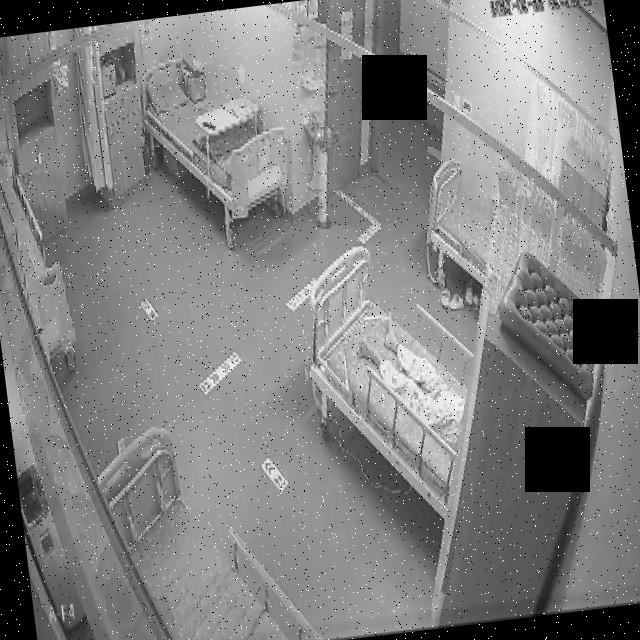bed: (296, 236, 482, 526), (91, 407, 322, 640), (137, 49, 293, 228), (418, 156, 498, 292)
lie: (352, 298, 472, 461)
patient: (352, 298, 470, 462)
